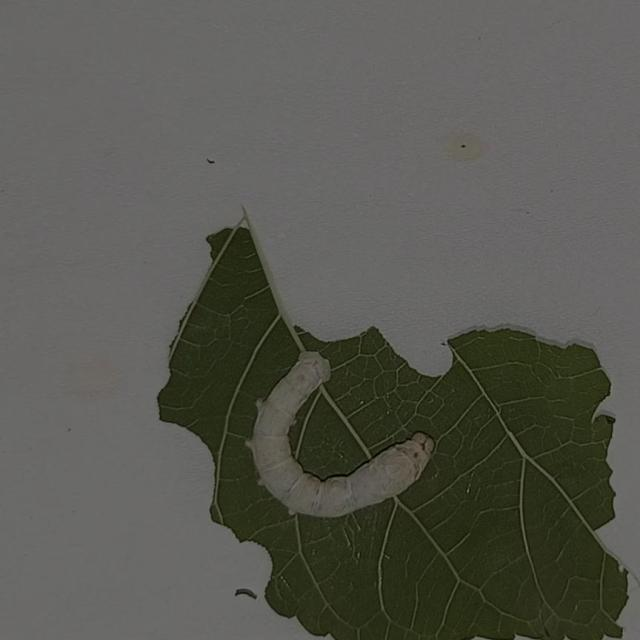Healthy: (236, 330, 453, 532)
